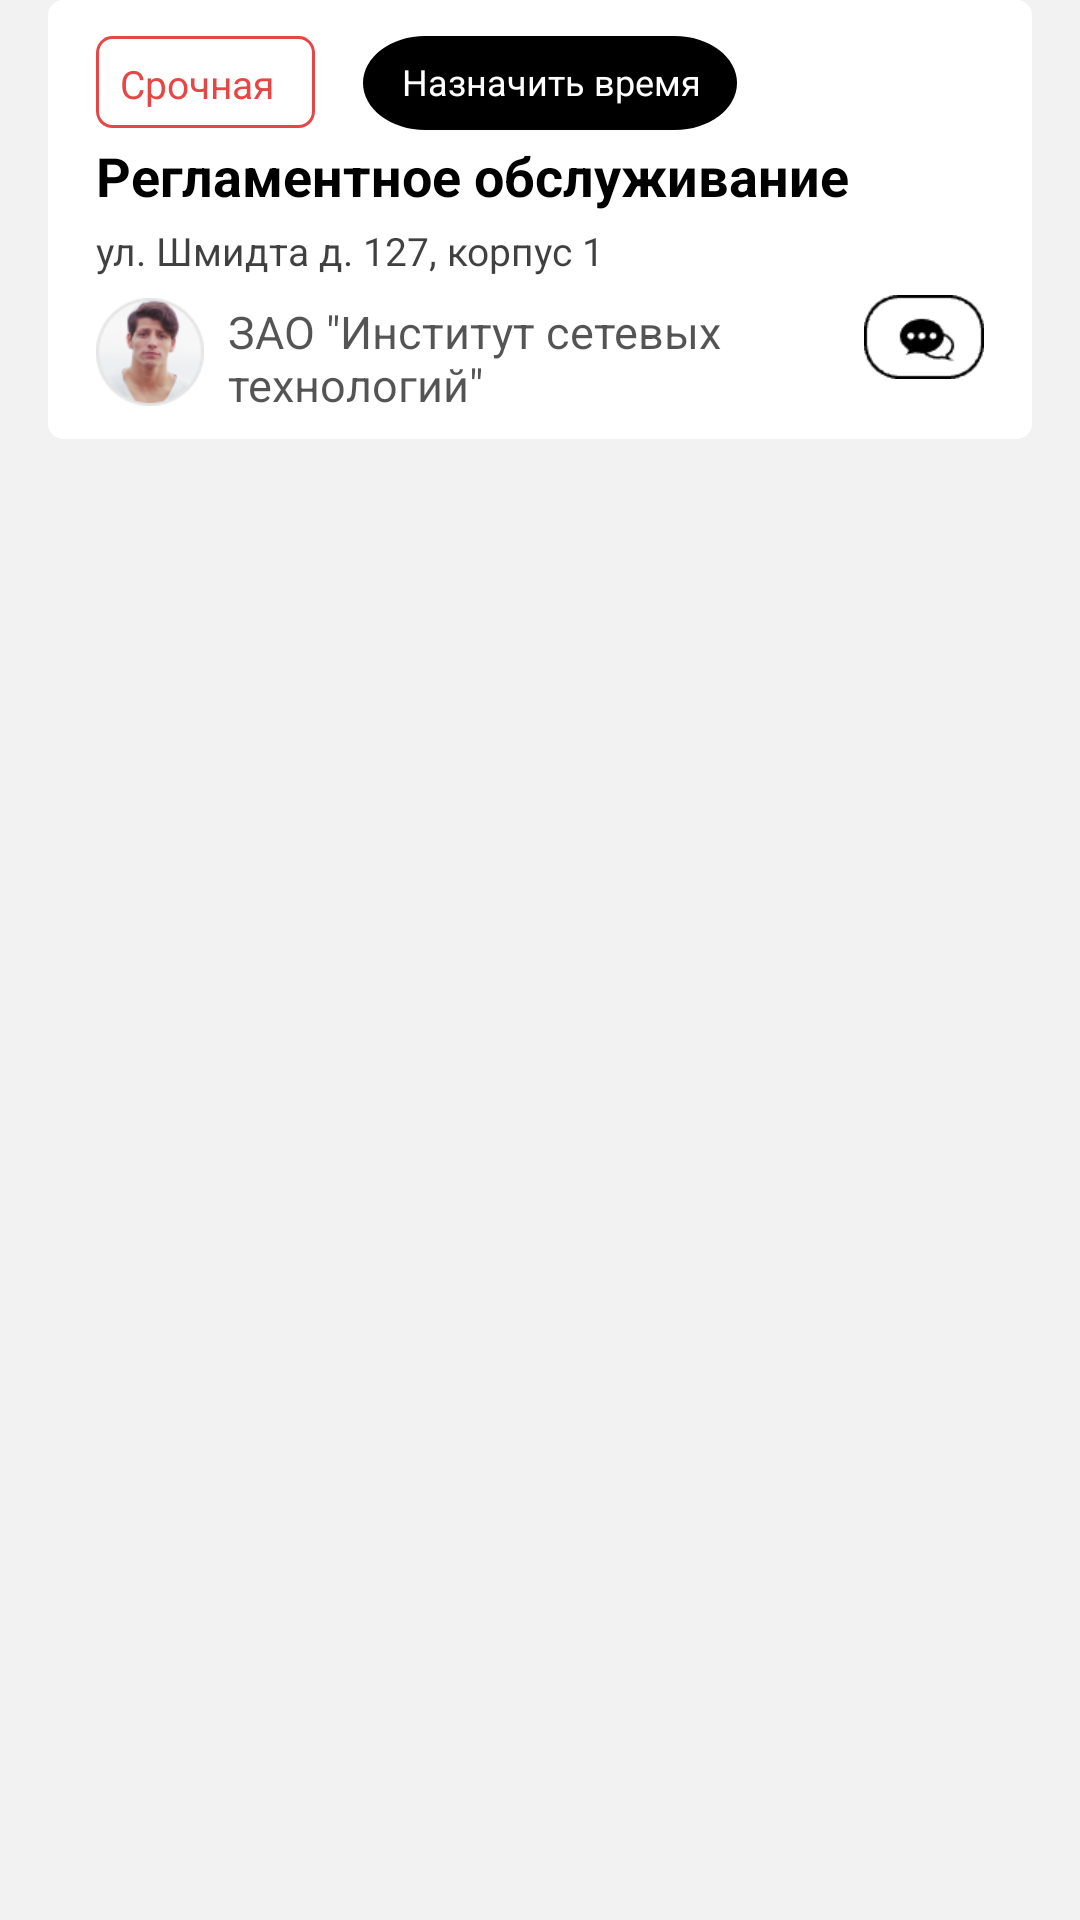

Icon click points for this 1080 x 1920 phone screenshot, format [x,y]:
dialog: [924,337]
photo: [150,352]
